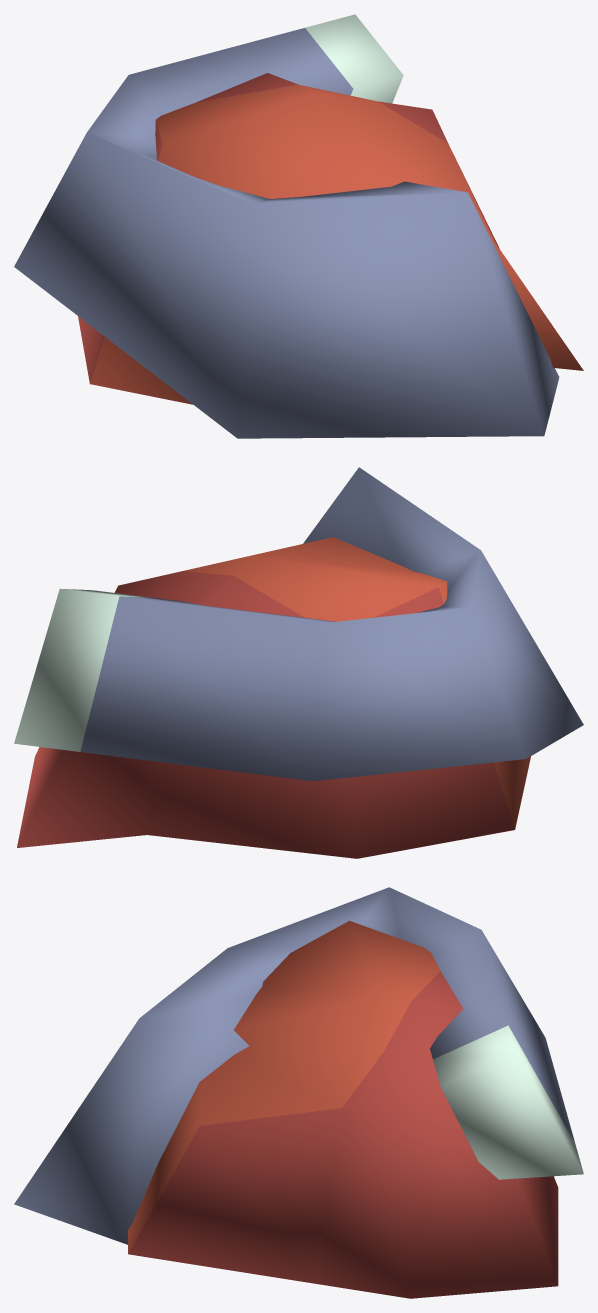
The model's file is oldClothes.fbx.
3 renders of one model, top to bottom at view 1: azimuth 30°, elevation 25°; view 2: azimuth 150°, elevation 25°; view 3: azimuth 270°, elevation 25°, orthographic. The views are drawn at different scales.
Parts seen in each view (by area): view 1: Cube.004; view 2: Cube.004; view 3: Cube.004.
Part boxes in pixels (box(x1,y1,x2,y2)): Cube.004: box(14, 14, 583, 438); Cube.004: box(14, 467, 583, 858); Cube.004: box(14, 887, 583, 1298).
Bounding box in the file's own units: 79.89 × 40.8 × 88.53.
